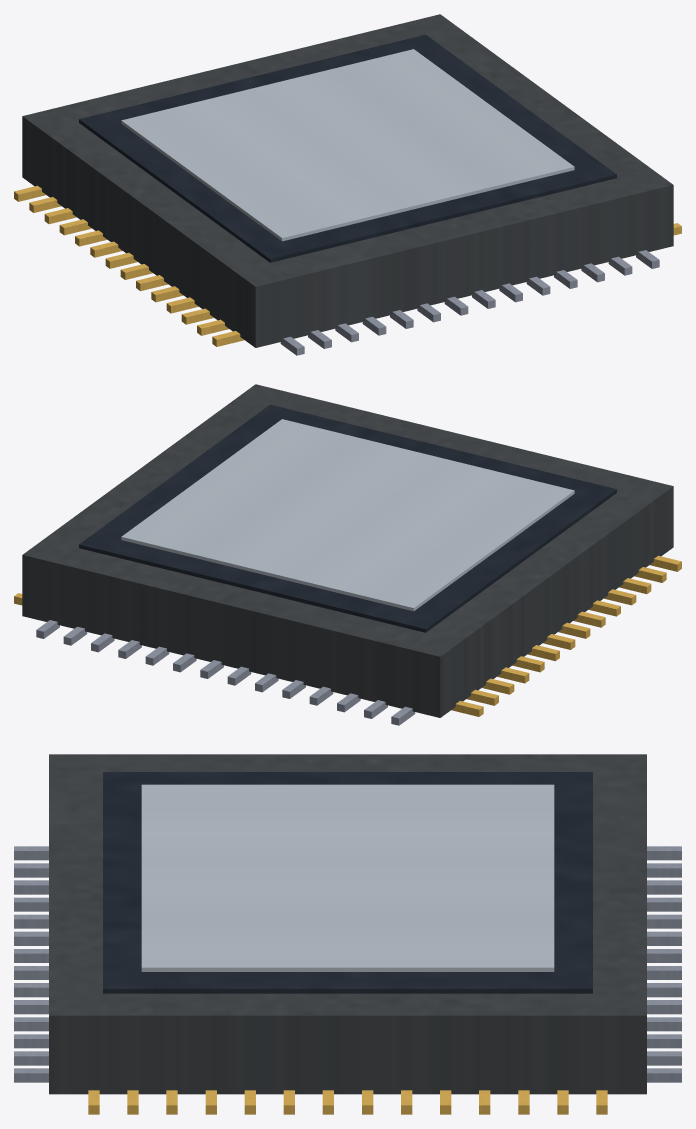
3 views of the same model, one above another, from view 1: azimuth 30°, elevation 25°; view 2: azimuth 150°, elevation 25°; view 3: azimuth 270°, elevation 25° (orthographic). The views are drawn at different scales.
Parts seen in each view (by area): view 1: 001_L125_U1__PSMAT__graphite, 001_L125_U1__PSMAT__silver, 001_L125_U1__PSMAT__chip, 001_L125_U1__PSMAT__gold, 001_L125_U1__PSMAT__solder; view 2: 001_L125_U1__PSMAT__graphite, 001_L125_U1__PSMAT__silver, 001_L125_U1__PSMAT__chip, 001_L125_U1__PSMAT__gold, 001_L125_U1__PSMAT__solder; view 3: 001_L125_U1__PSMAT__graphite, 001_L125_U1__PSMAT__silver, 001_L125_U1__PSMAT__chip, 001_L125_U1__PSMAT__solder, 001_L125_U1__PSMAT__gold.
Boxes of the visible parts, box(x1,y1,x2,y2) form: 001_L125_U1__PSMAT__graphite: box(22, 14, 673, 347); 001_L125_U1__PSMAT__silver: box(121, 49, 574, 241); 001_L125_U1__PSMAT__chip: box(79, 34, 616, 262); 001_L125_U1__PSMAT__gold: box(14, 185, 681, 346); 001_L125_U1__PSMAT__solder: box(280, 250, 659, 355); 001_L125_U1__PSMAT__graphite: box(22, 384, 673, 717); 001_L125_U1__PSMAT__silver: box(121, 419, 574, 611); 001_L125_U1__PSMAT__chip: box(79, 404, 616, 632); 001_L125_U1__PSMAT__gold: box(14, 555, 681, 716); 001_L125_U1__PSMAT__solder: box(36, 620, 415, 725); 001_L125_U1__PSMAT__graphite: box(49, 754, 646, 1094); 001_L125_U1__PSMAT__silver: box(141, 784, 554, 971); 001_L125_U1__PSMAT__chip: box(103, 772, 592, 993); 001_L125_U1__PSMAT__solder: box(14, 846, 681, 1082); 001_L125_U1__PSMAT__gold: box(88, 1090, 607, 1114).
Bounding box in the file's own units: 0.0334 × 0.00498 × 0.0324.
6 materials, 6 textured.
